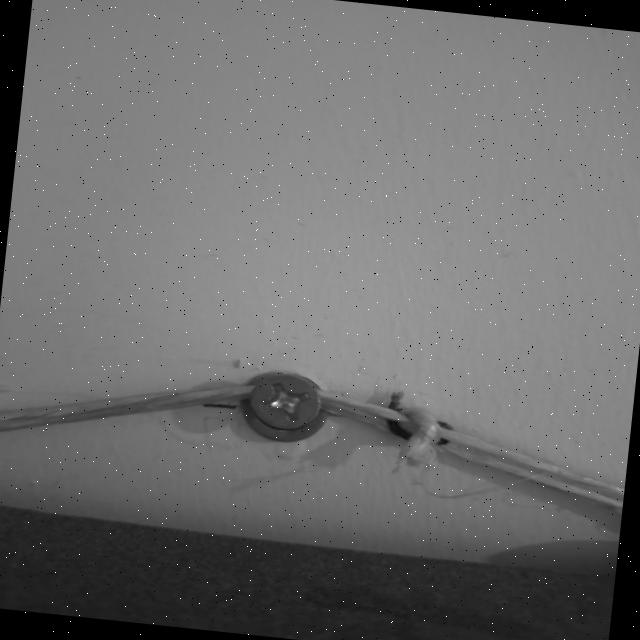Phillips: (246, 372, 318, 428)
